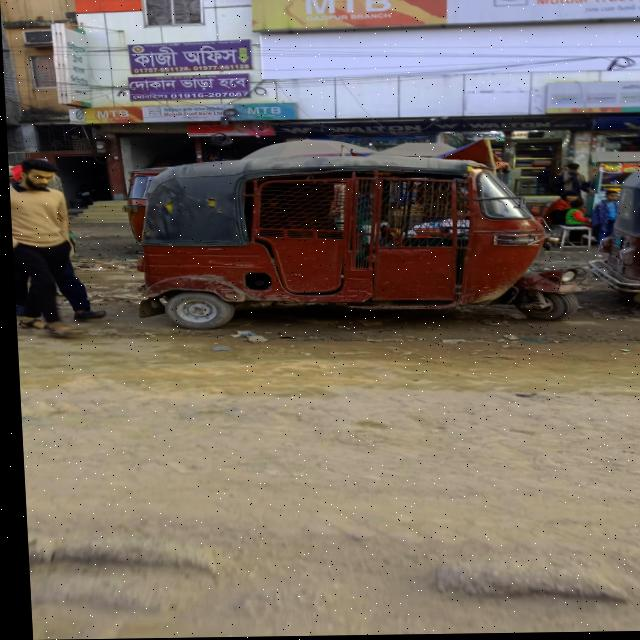cng: (117, 134, 572, 344)
